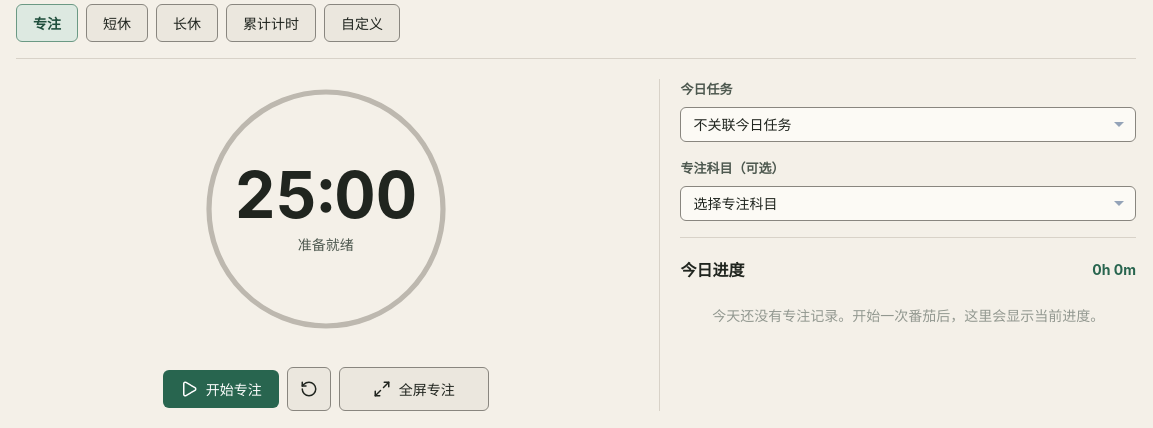
Pomodoro Component › starts the timer when play is clicked
The width and height of the screenshot is (1153, 428).
Click the button with test id "pomodoro-start-btn". click: {"x": 221, "y": 389}
box: [163, 370, 279, 408]
Wait 1000 ms
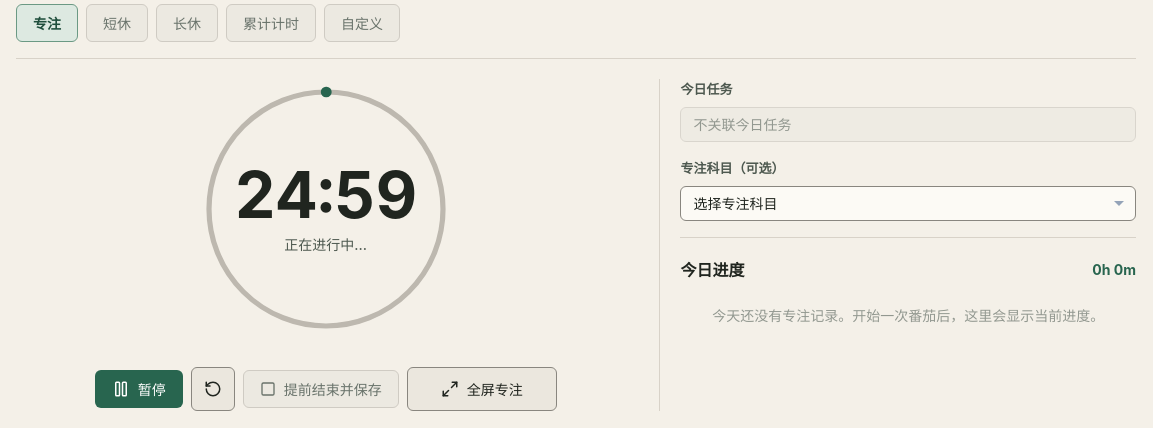
Now the text "24:59" is shown, box [234, 163, 417, 227]
Now the text "正在进行中..." is shown, box [284, 235, 367, 255]
Now the button "暂停" is shown, box [95, 370, 183, 408]
